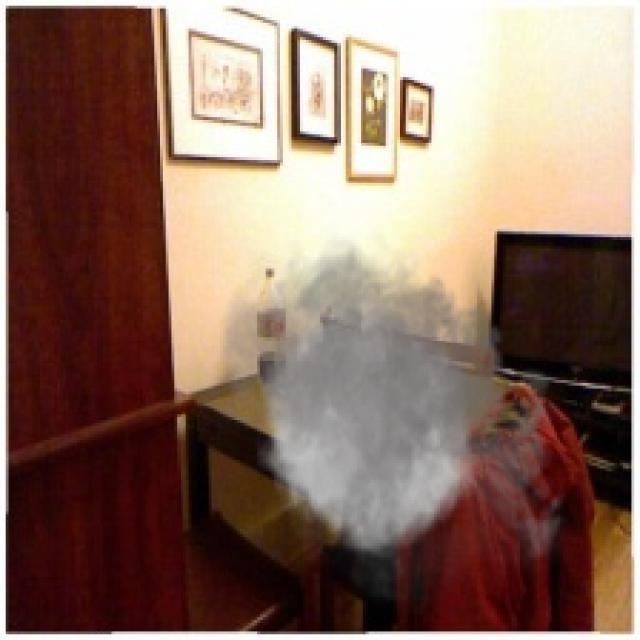Smoke: (206, 223, 574, 626)
